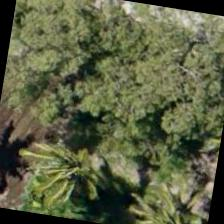Kelapa_Sawit: (15, 116, 118, 219)
